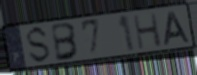1: (117, 14, 136, 54)
7: (80, 17, 102, 58)
A: (163, 10, 192, 47)
B: (50, 22, 81, 63)
H: (131, 11, 164, 51)
S: (26, 25, 52, 65)
